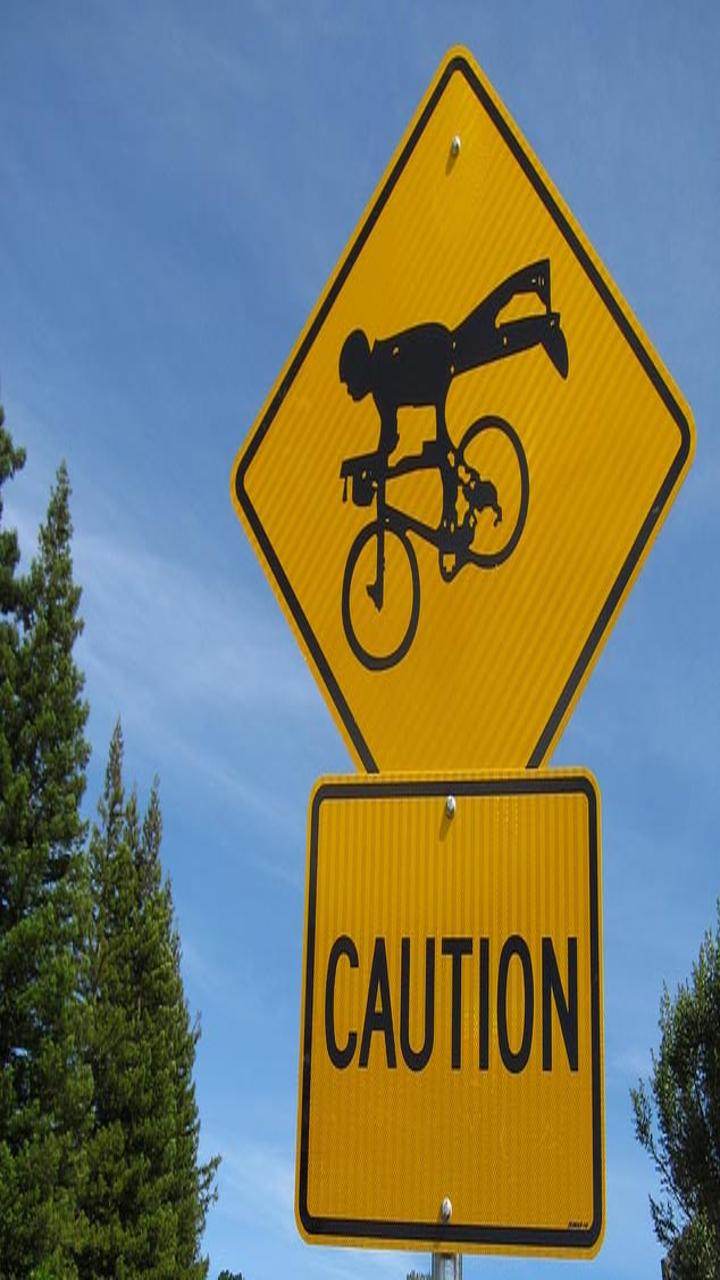Traffic sign: (211, 25, 720, 783), (228, 749, 720, 1262)
